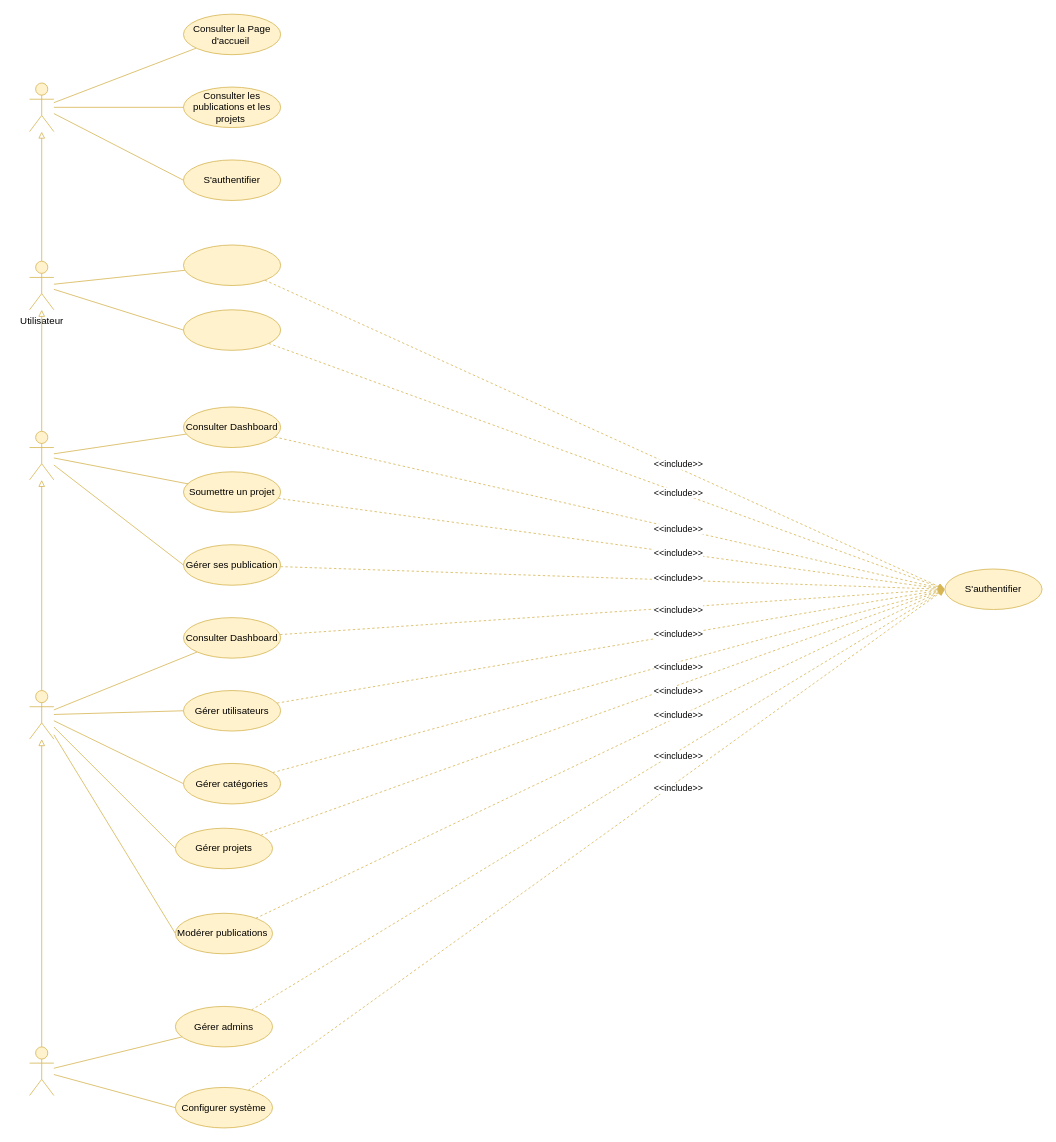
Image size: 1056x1142. Some labels were removed from this diagram. The box of each missing label's shape, as (x1, y1, x2, y2) in pixels:
Admin: (29, 690, 54, 739)
Chercheur: (29, 431, 54, 480)
Gérer profil: (183, 244, 281, 286)
Interagir avec projets: (183, 309, 281, 350)
Super admin: (29, 1046, 54, 1096)
Visiteur: (29, 82, 54, 132)
